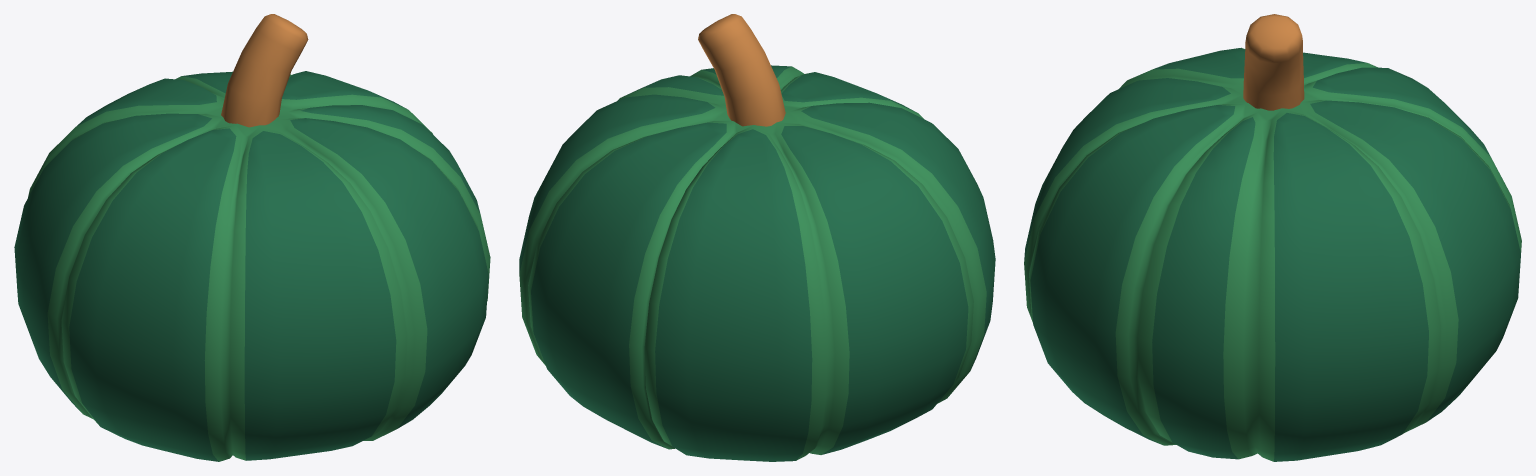
File: Pumpkin_01.dae
3 views of the same model, side by side, from view 1: azimuth 30°, elevation 25°; view 2: azimuth 150°, elevation 25°; view 3: azimuth 270°, elevation 25° (orthographic). The views are drawn at different scales.
Parts seen in each view (by area): view 1: Pumpkin_01_LOD0; view 2: Pumpkin_01_LOD0; view 3: Pumpkin_01_LOD0.
Boxes of the visible parts, <box> form: Pumpkin_01_LOD0: <box>14,14,490,461</box>; Pumpkin_01_LOD0: <box>519,14,995,461</box>; Pumpkin_01_LOD0: <box>1024,14,1521,461</box>.
Size of what is drawn, in the model's own units: 6.19 by 6.14 by 5.5.
